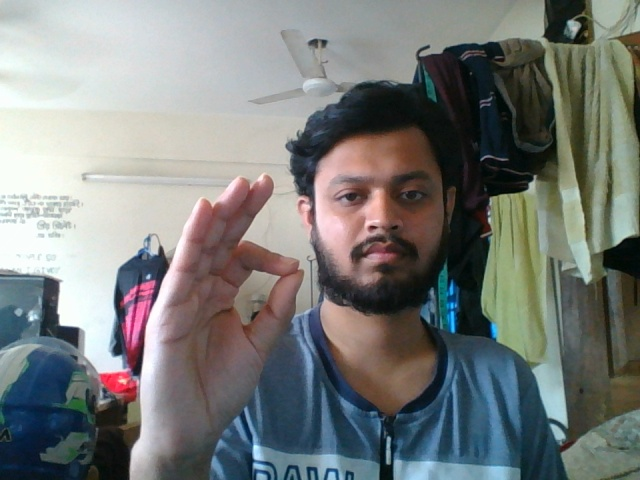ieo: (139, 167, 308, 456)
